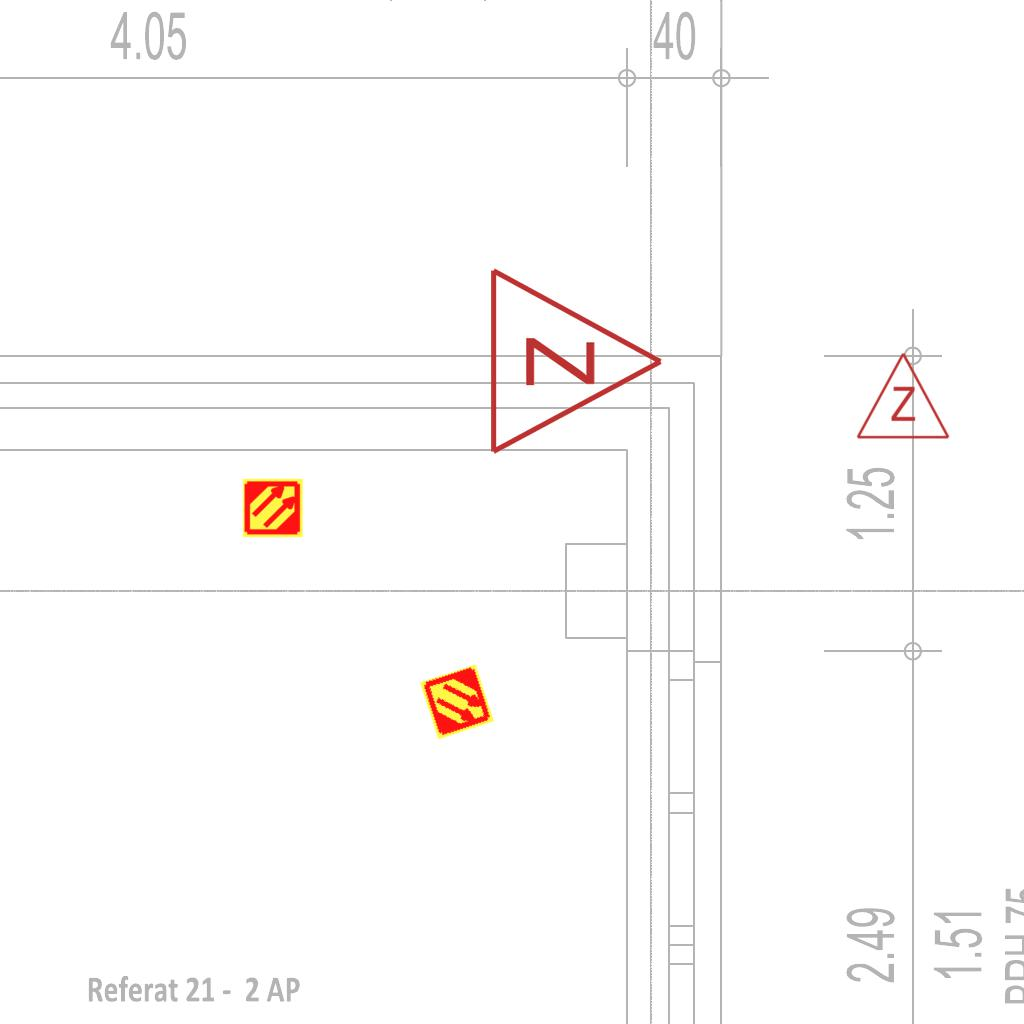ASR_Ansaugrauchmelder: (417, 662, 497, 742), (242, 477, 304, 539)
Zimmersignalleuchte: (476, 261, 676, 457), (853, 346, 951, 446)
